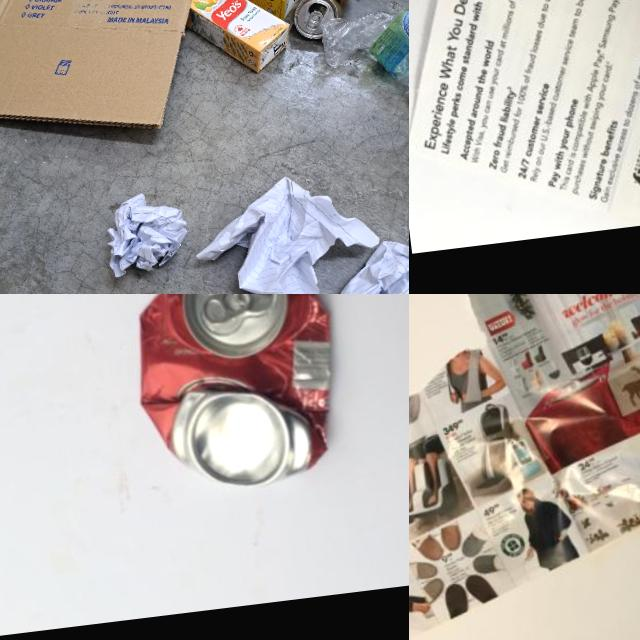aba de lata: (200, 294, 255, 322)
caixinha: (182, 0, 294, 80), (197, 0, 314, 26)
garrafa plástica: (317, 4, 409, 119)
lata: (122, 294, 352, 498), (287, 0, 364, 39)
papel: (409, 294, 640, 640), (409, 0, 640, 252), (184, 163, 390, 294), (100, 183, 191, 280), (302, 230, 409, 294)
papelão: (0, 0, 259, 150)
tampa plástica: (302, 9, 328, 42)
